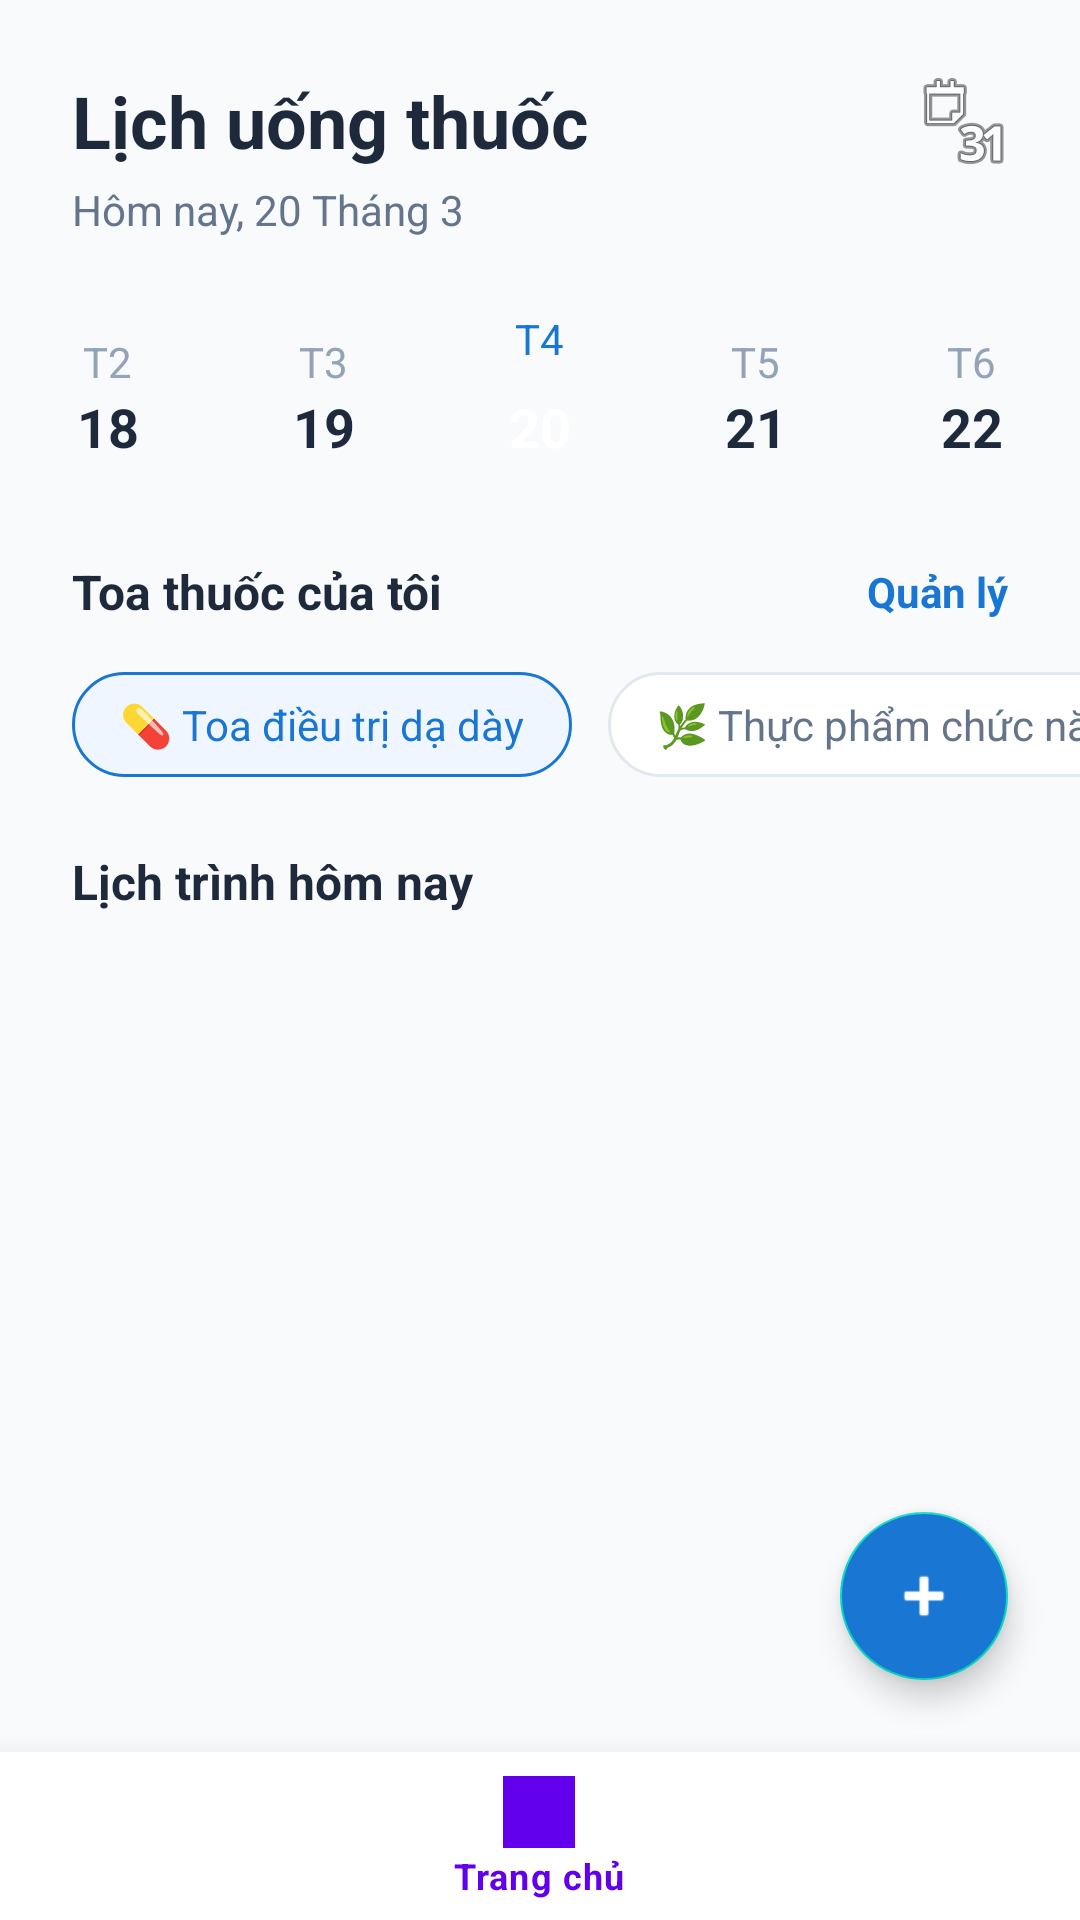

Icons on this 1080px x 1920px Android screen, each with the point to tap as [x,y]:
add: [924,1596]
month: [963,121]
